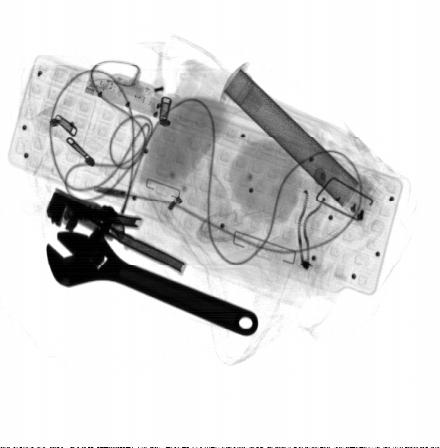Pliers: (46, 187, 189, 276)
Wrench: (45, 227, 259, 338)
